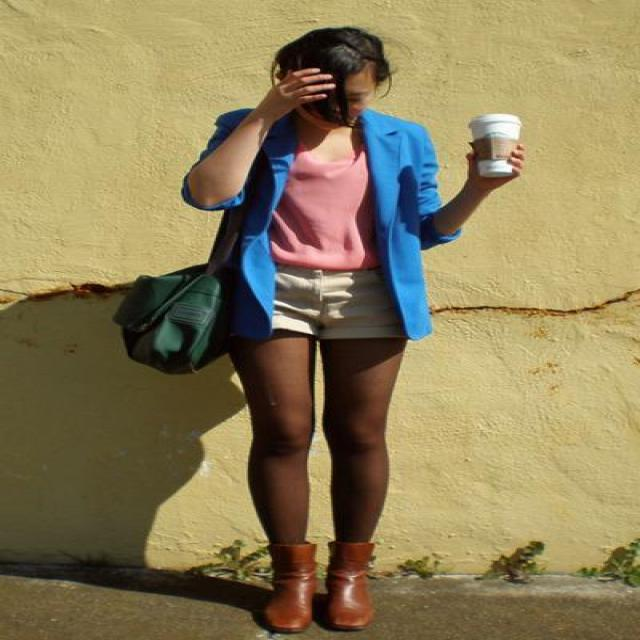bag: (114, 269, 243, 373)
jacket: (185, 110, 458, 339)
shirt: (267, 148, 387, 278)
shoe: (261, 533, 392, 639)
shorts: (271, 258, 404, 338)
